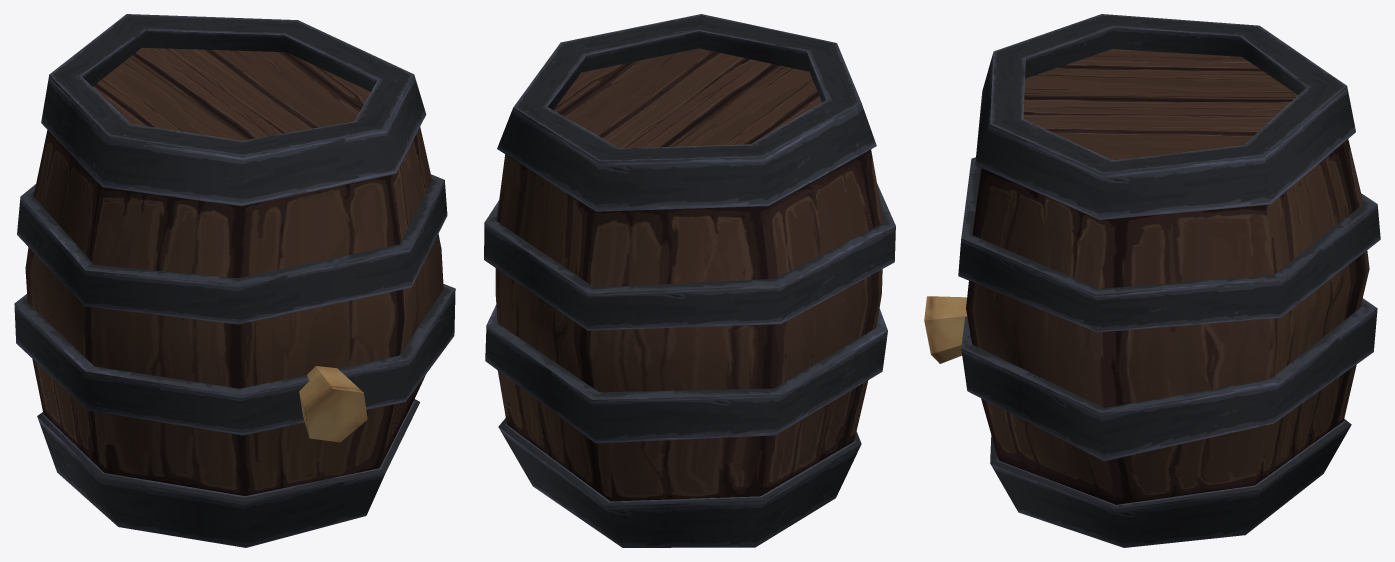
File: SM_PROP_barrel_battle_06.fbx
3 renders of one model, left to right at view 1: azimuth 30°, elevation 25°; view 2: azimuth 150°, elevation 25°; view 3: azimuth 270°, elevation 25°, orthographic.
Visible parts, largest first — view 1: SM_PROP_barrel_battle_06; view 2: SM_PROP_barrel_battle_06; view 3: SM_PROP_barrel_battle_06.
Part boxes in pixels (x1,y1,x2,y2): SM_PROP_barrel_battle_06: (14,14,455,547); SM_PROP_barrel_battle_06: (484,14,895,547); SM_PROP_barrel_battle_06: (924,14,1380,547).
Bounding box in the file's own units: 81.12 × 83.28 × 86.6.
